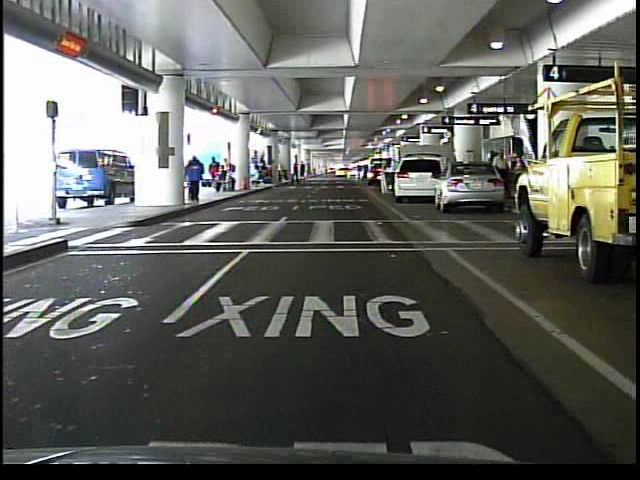person: (183, 152, 207, 205)
